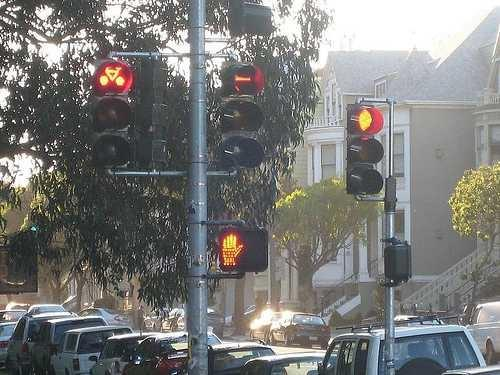red: (95, 54, 132, 166), (345, 101, 387, 198), (220, 226, 258, 278), (96, 62, 133, 99), (350, 103, 382, 136)
